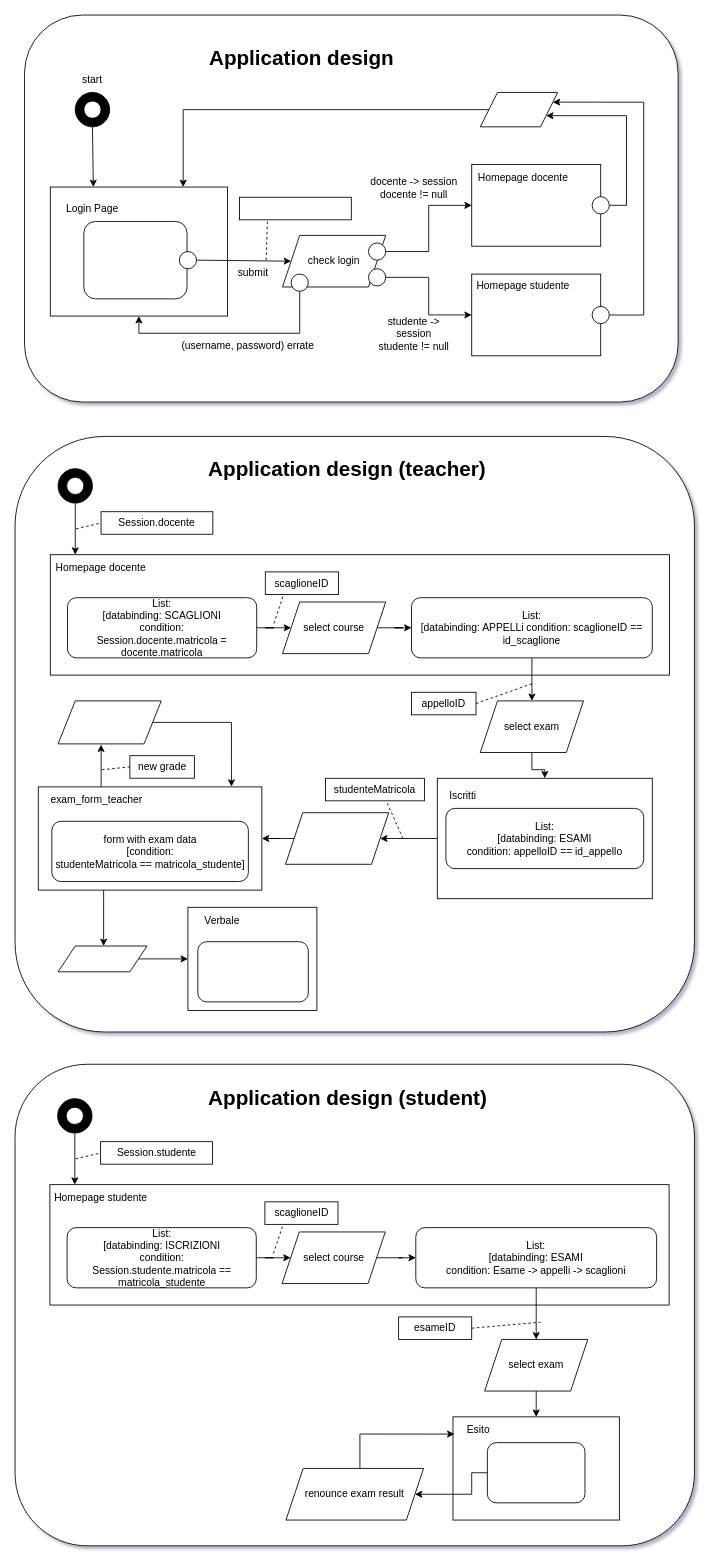
The diagram is 715 pixels wide and 1566 high, and some of its shapes have lost their labels. Each missing label, with the centre of its shape:
"(username, password)" goes at pixel 295 208.
"exam result update" goes at pixel 109 722.
"Login form [field: username field: password]" goes at pixel 135 260.
"logout" goes at pixel 518 109.
"report with exam result info" goes at pixel 536 1472.
"report with verbalized exam info" goes at pixel 252 971.
"select student exam" goes at pixel 337 838.
"verbalize" goes at pixel 102 958.
